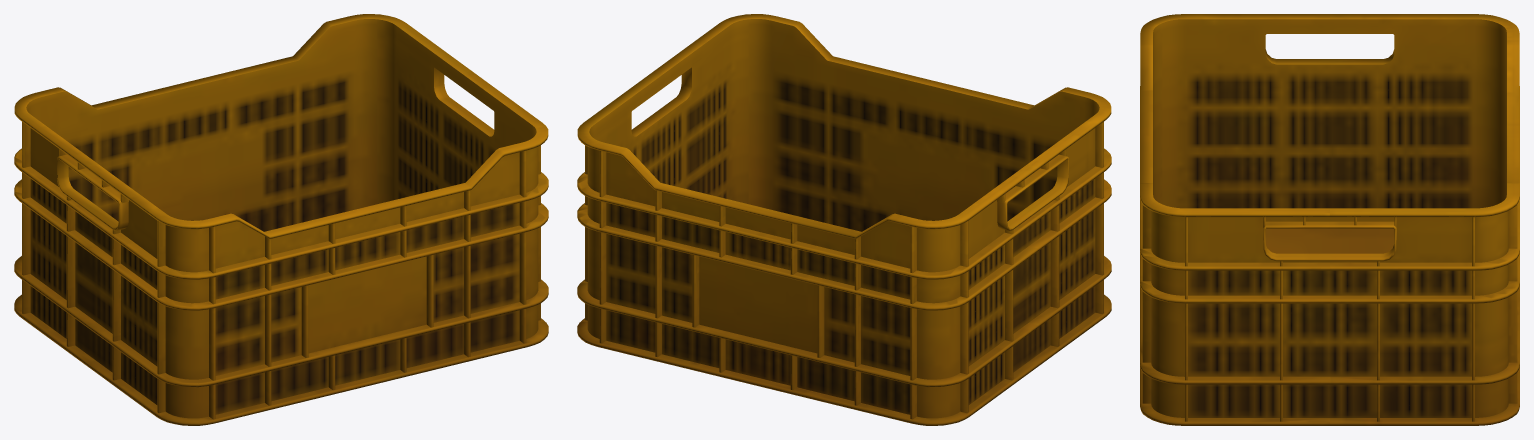
Rendered from crate.glb.
The picture shows the model from 3 angles, left to right: view 1: azimuth 30°, elevation 25°; view 2: azimuth 150°, elevation 25°; view 3: azimuth 270°, elevation 25°; orthographic projection. The views are drawn at different scales.
Parts seen in each view (by area): view 1: plastic_crate_02; view 2: plastic_crate_02; view 3: plastic_crate_02.
Part boxes in pixels (x1=…): plastic_crate_02: x1=14, y1=14, x2=548, y2=425; plastic_crate_02: x1=577, y1=14, x2=1111, y2=425; plastic_crate_02: x1=1140, y1=14, x2=1519, y2=425.
Bounding box in the file's own units: 0.5055 × 0.2541 × 0.4055.
Materials: 1 (1 with a texture image).
